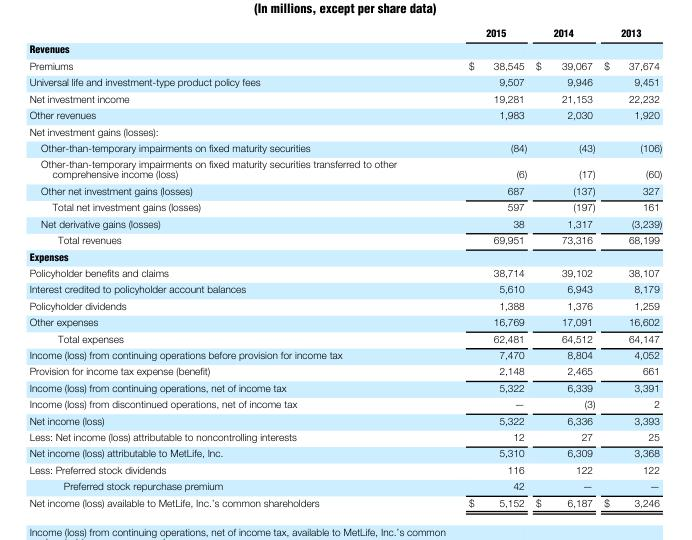table: (28, 28, 661, 508)
table column: (28, 28, 432, 508), (432, 28, 530, 508), (530, 28, 598, 508), (598, 28, 661, 508)
table column header: (28, 28, 661, 42)
table projected row header: (28, 42, 661, 58), (28, 124, 661, 140), (28, 249, 661, 265)
table row: (28, 156, 661, 183), (28, 74, 661, 91), (28, 107, 661, 124), (28, 199, 661, 216), (28, 232, 661, 249), (28, 281, 661, 298), (28, 314, 661, 331), (28, 347, 661, 364), (28, 396, 661, 413), (28, 429, 661, 446), (28, 478, 661, 495), (28, 42, 661, 58), (28, 58, 661, 74), (28, 91, 661, 107), (28, 124, 661, 140), (28, 140, 661, 156), (28, 183, 661, 199), (28, 216, 661, 232), (28, 249, 661, 265), (28, 265, 661, 281), (28, 298, 661, 314), (28, 331, 661, 347), (28, 364, 661, 380), (28, 380, 661, 396), (28, 413, 661, 429), (28, 446, 661, 462), (28, 462, 661, 478), (28, 28, 661, 42), (28, 495, 661, 508)
